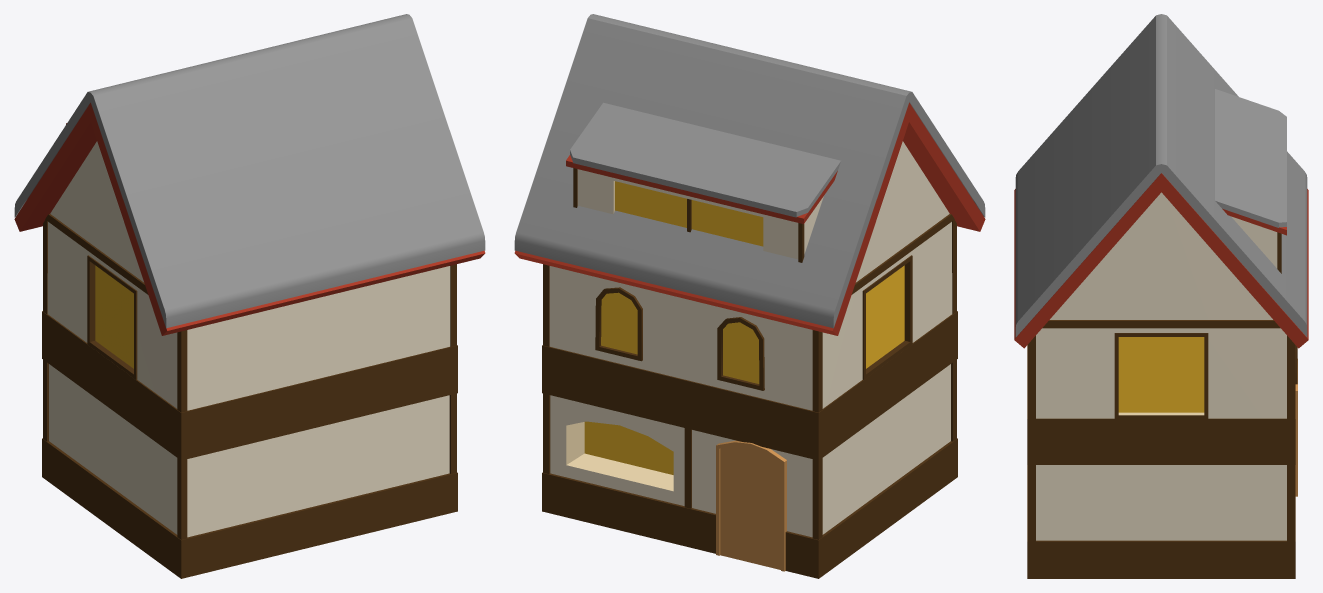
Rendered from hosue_1.fbx.
3 renders of one model, left to right at view 1: azimuth 30°, elevation 25°; view 2: azimuth 150°, elevation 25°; view 3: azimuth 270°, elevation 25°, orthographic. The views are drawn at different scales.
Parts seen in each view (by area): view 1: Object003, Object063, Object050; view 2: Object003, Object063, Object050; view 3: Object003, Object063, Object050.
Part boxes in pixels (x1,y1,x2,y2): Object003: (14, 102, 485, 578); Object063: (14, 14, 485, 328); Object050: (95, 265, 133, 368); Object003: (514, 102, 985, 578); Object063: (514, 14, 985, 328); Object050: (584, 181, 904, 474); Object003: (1014, 173, 1308, 578); Object063: (1015, 14, 1307, 337); Object050: (1118, 337, 1204, 412).
Bounding box in the file's own units: 515 × 680 × 428.
